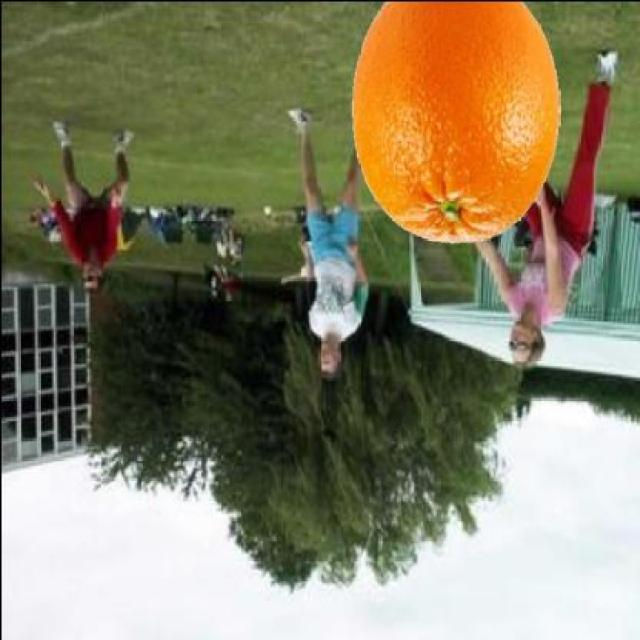Orange: (349, 0, 562, 243)
